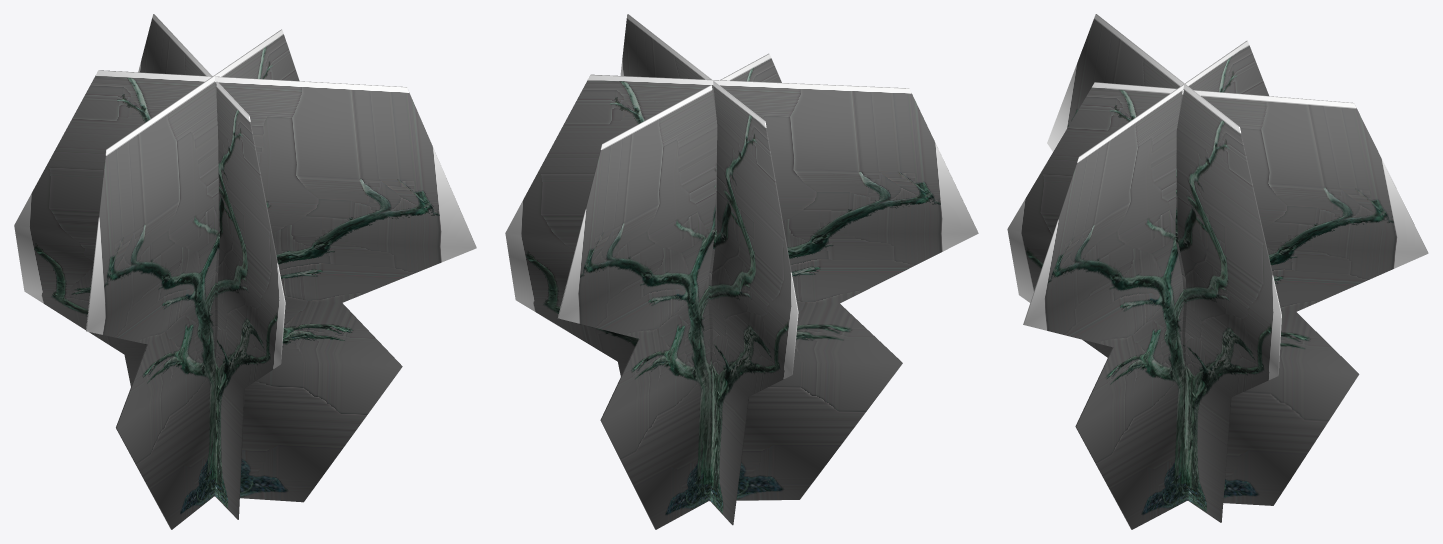
Rendered from ded tree 2.fbx.
3 views of the same model, side by side, from view 1: azimuth 30°, elevation 25°; view 2: azimuth 150°, elevation 25°; view 3: azimuth 270°, elevation 25° (orthographic).
Parts seen in each view (by area): view 1: ded tree 2; view 2: ded tree 2; view 3: ded tree 2.
Part boxes in pixels (x1,y1,x2,y2): ded tree 2: (14, 14, 476, 529); ded tree 2: (505, 14, 978, 529); ded tree 2: (1007, 14, 1428, 529).
Size of the model in its own units: 381 by 418 by 390.
